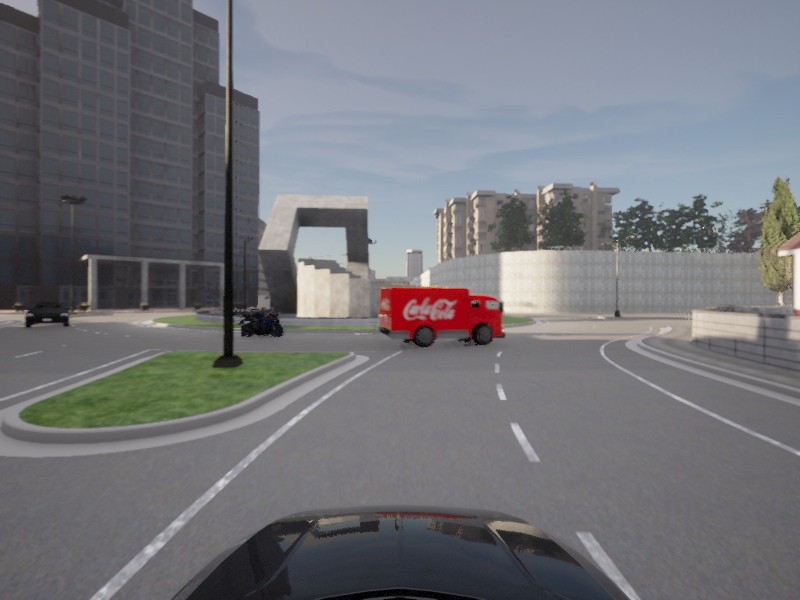vehicle: (376, 286, 512, 350), (236, 307, 286, 339), (23, 301, 70, 329)
